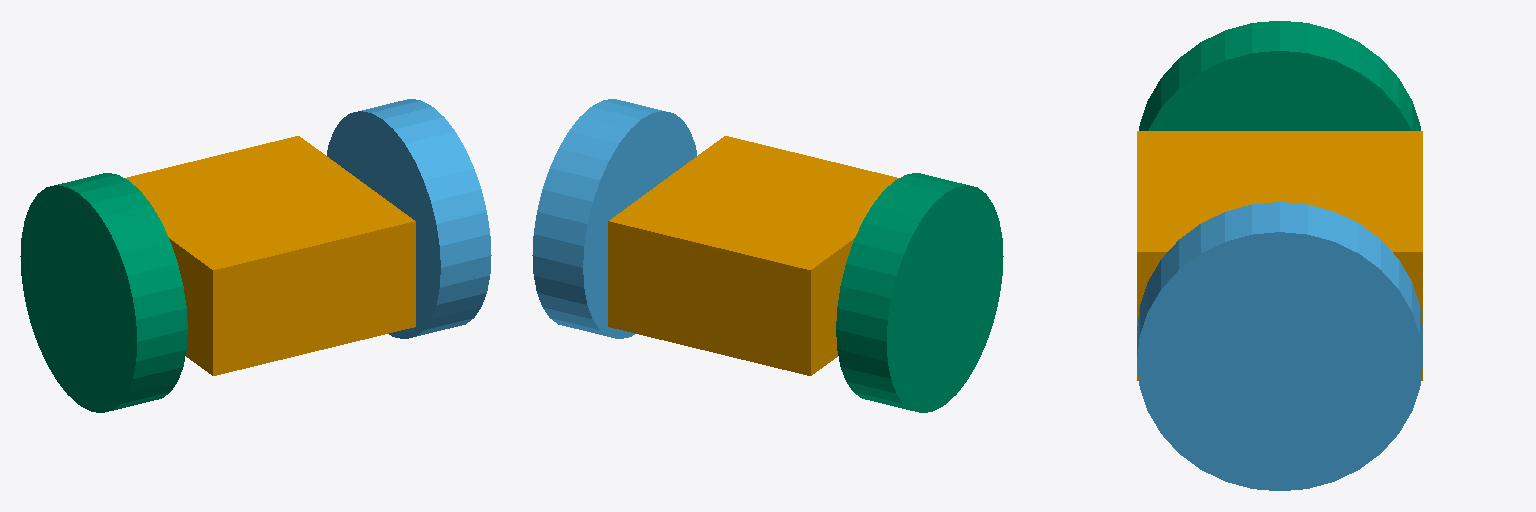
robot.urdf — robot:
<?xml version="1.0"?>
<robot name="robot" xmlns:xacro="http://www.ros.org/wiki/xacro">

	<link name="base_link">

		<origin xyz="0.0 0.0 0.0" rpy="0 0.0 0.0" />

		<visual name="base_visual">

			<geometry>
				<box size="0.2 0.2 0.1" />
			</geometry>

			<material name="">
				<color rgb="1.0 0.0 0.0"></color>
			</material>

		</visual>


		<inertial>

			<mass value="1" />
			<inertia ixx="100" ixy="0" ixz="0" iyy="100" iyz="0" izz="100" />

		</inertial>

		<collision>

			<geometry>
				<box size="0.2 0.6 0.6" />
			</geometry>

		</collision>


	</link>

	<link name="wheel_left">
		<origin xyz="0.2 0 0" rpy=" 0 0 0" />

		<visual name="wheel_left_visual">

			<geometry>
				<cylinder length="0.05" radius="0.1" />
			</geometry>

			<material name="">
				<color rgb="1.0 0.0 0.0"></color>
			</material>

		</visual>

		<inertial>

			<mass value="1" />
			<inertia ixx="100" ixy="0" ixz="0" iyy="100" iyz="0" izz="100" />

		</inertial>

		<collision>

			<geometry>
				<cylinder length="0.05" radius="0.1" />
			</geometry>

		</collision>

	</link>

	<link name="wheel_right">

		<origin xyz="-2.2 0 0" rpy="0 1.57 0" />

		<visual name="wheel_left_visual">

			<geometry>

				<cylinder length="0.05" radius="0.1" />

			</geometry>

			<material name="">
				<color rgb="1.0 0.0 0.0"></color>
			</material>

		</visual>

		<inertial>

			<mass value="1" />
			<inertia ixx="100" ixy="0" ixz="0" iyy="100" iyz="0" izz="100" />

		</inertial>

		<collision>

			<geometry>
				<cylinder length="0.05" radius="0.1" />
			</geometry>

		</collision>

	</link>

	<joint type="continuous" name="left_wheel_joint">

		<axis xyz = "0 0 1"/>
		<origin xyz="0.15 0.0 0" rpy="0 1.57 0" />
		<child link="wheel_left" />
		<parent link="base_link" />

	</joint>

	<joint type="continuous" name="right_wheel_joint">

		<axis xyz = "0 0 1"/>
		<origin xyz="-0.15 0.0 0" rpy="0 1.57 0" />
		<child link="wheel_right" />
		<parent link="base_link" />

	</joint>

</robot>

--- Render facts (derived) ---
3 views of the same robot in one strip: view 1: azimuth 30°, elevation 25°; view 2: azimuth 150°, elevation 25°; view 3: azimuth 270°, elevation 25° (orthographic).
Model robot with 3 links and 2 joints (2 continuous), rooted at base_link, posed every joint at zero.
Visible links, largest first — view 1: base_link, wheel_right, wheel_left; view 2: base_link, wheel_right, wheel_left; view 3: wheel_left, base_link, wheel_right.
Boxes of the visible links, x1,y1,x2,y2 form: base_link: (125, 136, 415, 375); wheel_right: (20, 173, 187, 412); wheel_left: (327, 99, 491, 338); base_link: (608, 136, 898, 375); wheel_right: (836, 173, 1003, 412); wheel_left: (532, 99, 696, 338); wheel_left: (1137, 202, 1422, 490); base_link: (1137, 131, 1422, 380); wheel_right: (1139, 21, 1420, 130).
Size in the robot's own frame: 0.3502 by 0.2 by 0.2 metres.
Geometry: primitives only (box / cylinder / sphere), no mesh files.